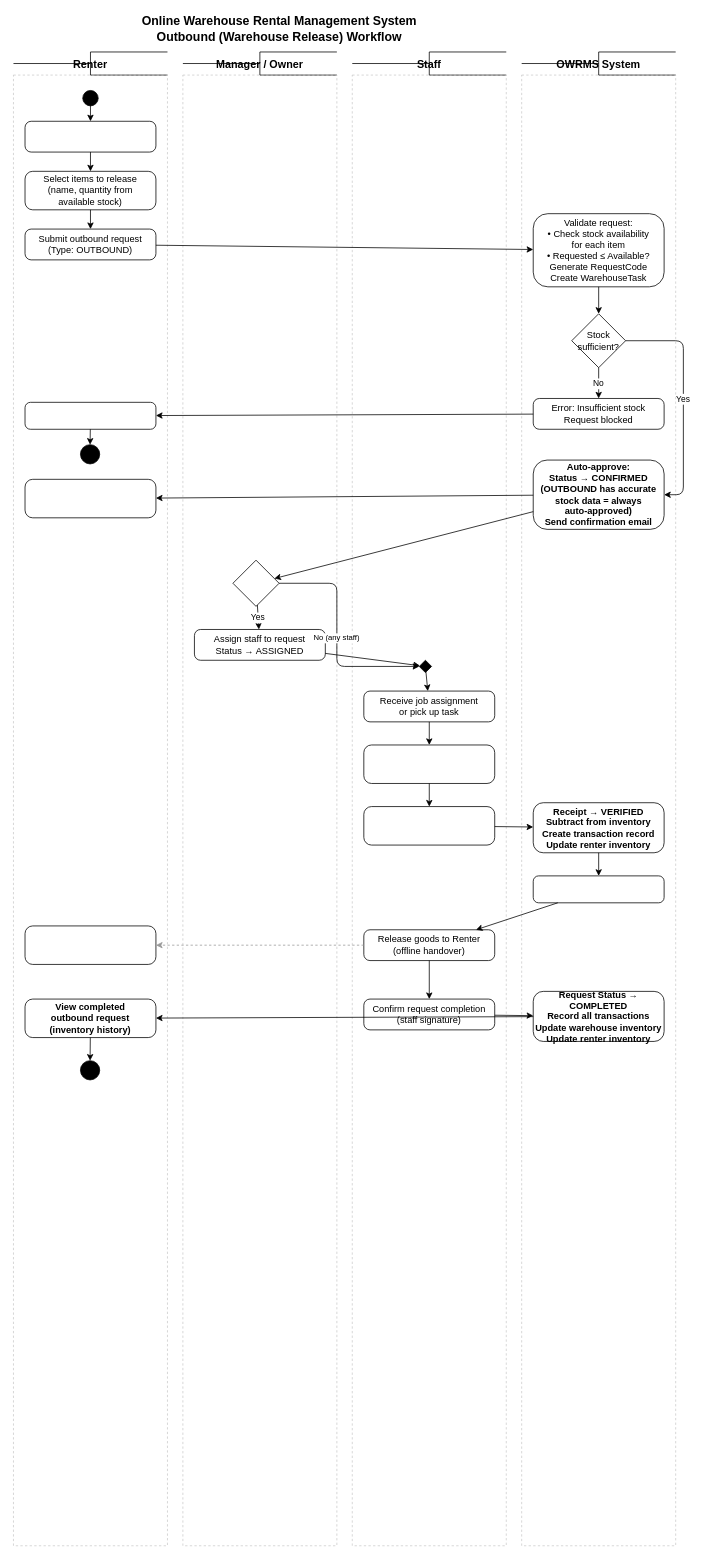
Some shapes in this 705 by 1559 pixel diagram are drawn without their labels. The shapes that lost their labels are listed below. From the top down, each one's centre as x and y in pixels, then its label:
At [90,136]: "View current inventory in warehouse".
At [90,415]: "Receive error: insufficient stock".
At [90,498]: "Receive confirmation email: outbound request has been auto-approved".
At [255,582]: "Assign staff?".
At [429,763]: "Pick & prepare goods for release (verify quantity)".
At [429,825]: "Create Receipt Note (enter verified qty, staff signature)".
At [598,889]: "Request Status → RECEIVING".
At [90,944]: "Pick up goods from warehouse (offline)".
